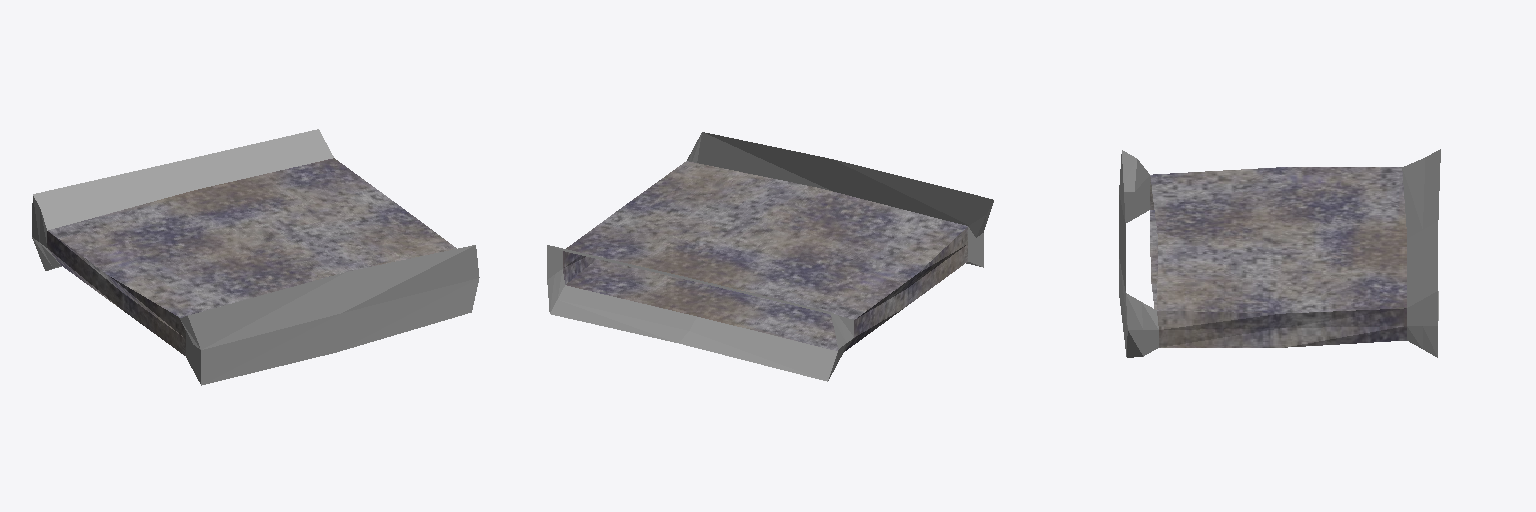
The picture shows the model from 3 angles: view 1: azimuth 30°, elevation 25°; view 2: azimuth 150°, elevation 25°; view 3: azimuth 270°, elevation 25°; orthographic projection.
Visible parts, largest first — view 1: Cube; view 2: Cube; view 3: Cube.
Part boxes in pixels (bbox=[...]): Cube: bbox=[32, 129, 479, 385]; Cube: bbox=[547, 132, 993, 381]; Cube: bbox=[1119, 149, 1440, 357].
Bounding box in the file's own units: 1.09 × 0.2666 × 1.03.
2 materials, 1 textured.